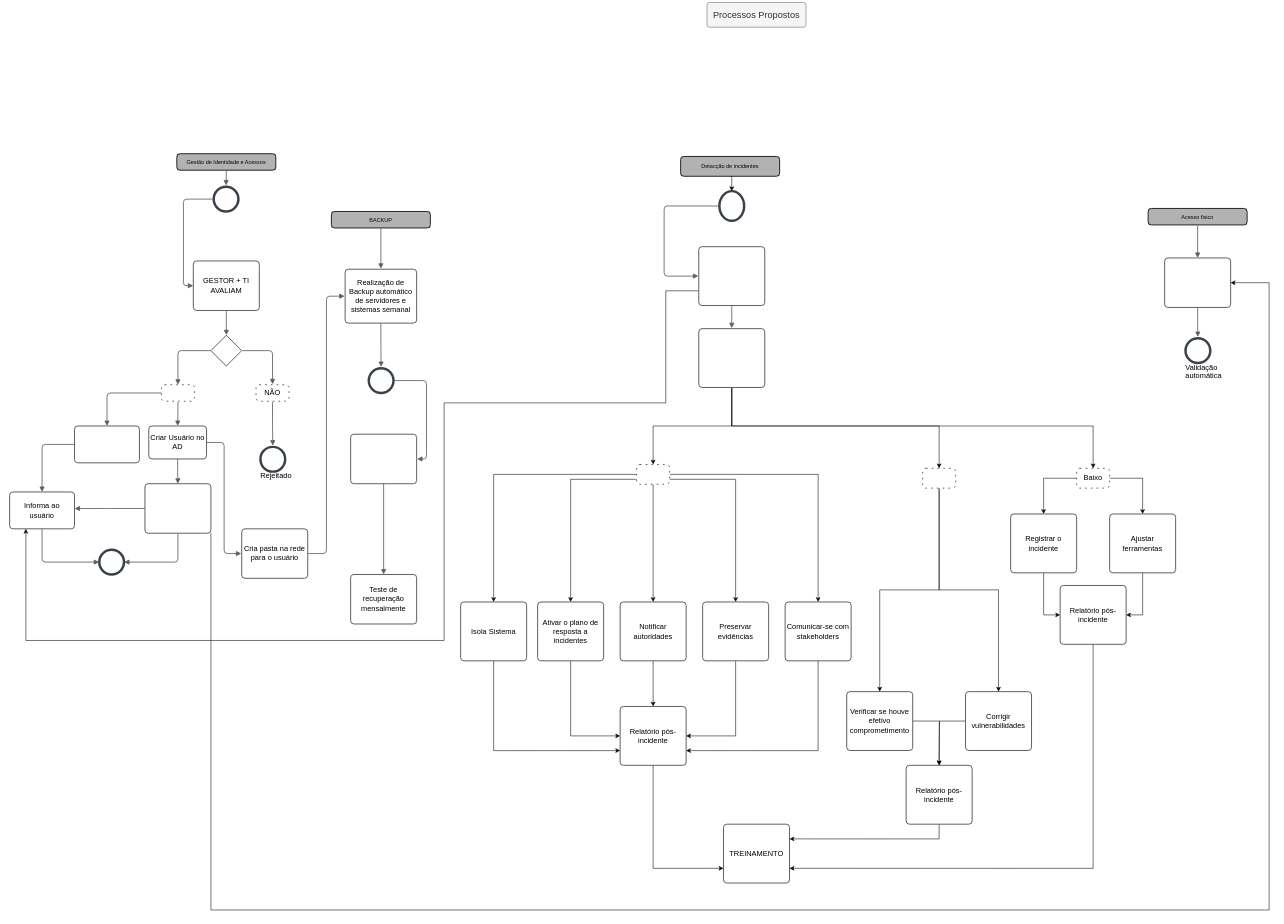
Image size: 1284x924. Some labels were removed from this diagram. The box of each missing label's shape, as (x1, y1, x2, y2) in pixels:
APROVADO: (210, 335, 242, 366)
Armazena uma copia local e outra em nuvem: (350, 434, 417, 484)
Comunica todas as equipes de TI: (698, 246, 765, 306)
Crachá RFID: (1164, 257, 1231, 308)
Cria login nos sistemas: (144, 483, 211, 533)
Criptografia AES-256: (368, 368, 394, 393)
Crítico: (636, 464, 670, 484)
Faz a requisição do e-mail institucional: (74, 425, 140, 463)
Gravidade: (698, 328, 765, 388)
Incidente detectado: (719, 190, 744, 221)
Médio: (922, 468, 956, 488)
SIM: (161, 384, 195, 401)
Sincroniza as senhas e MFA: (99, 549, 124, 575)
Solicitação via chamados: (213, 186, 239, 212)
